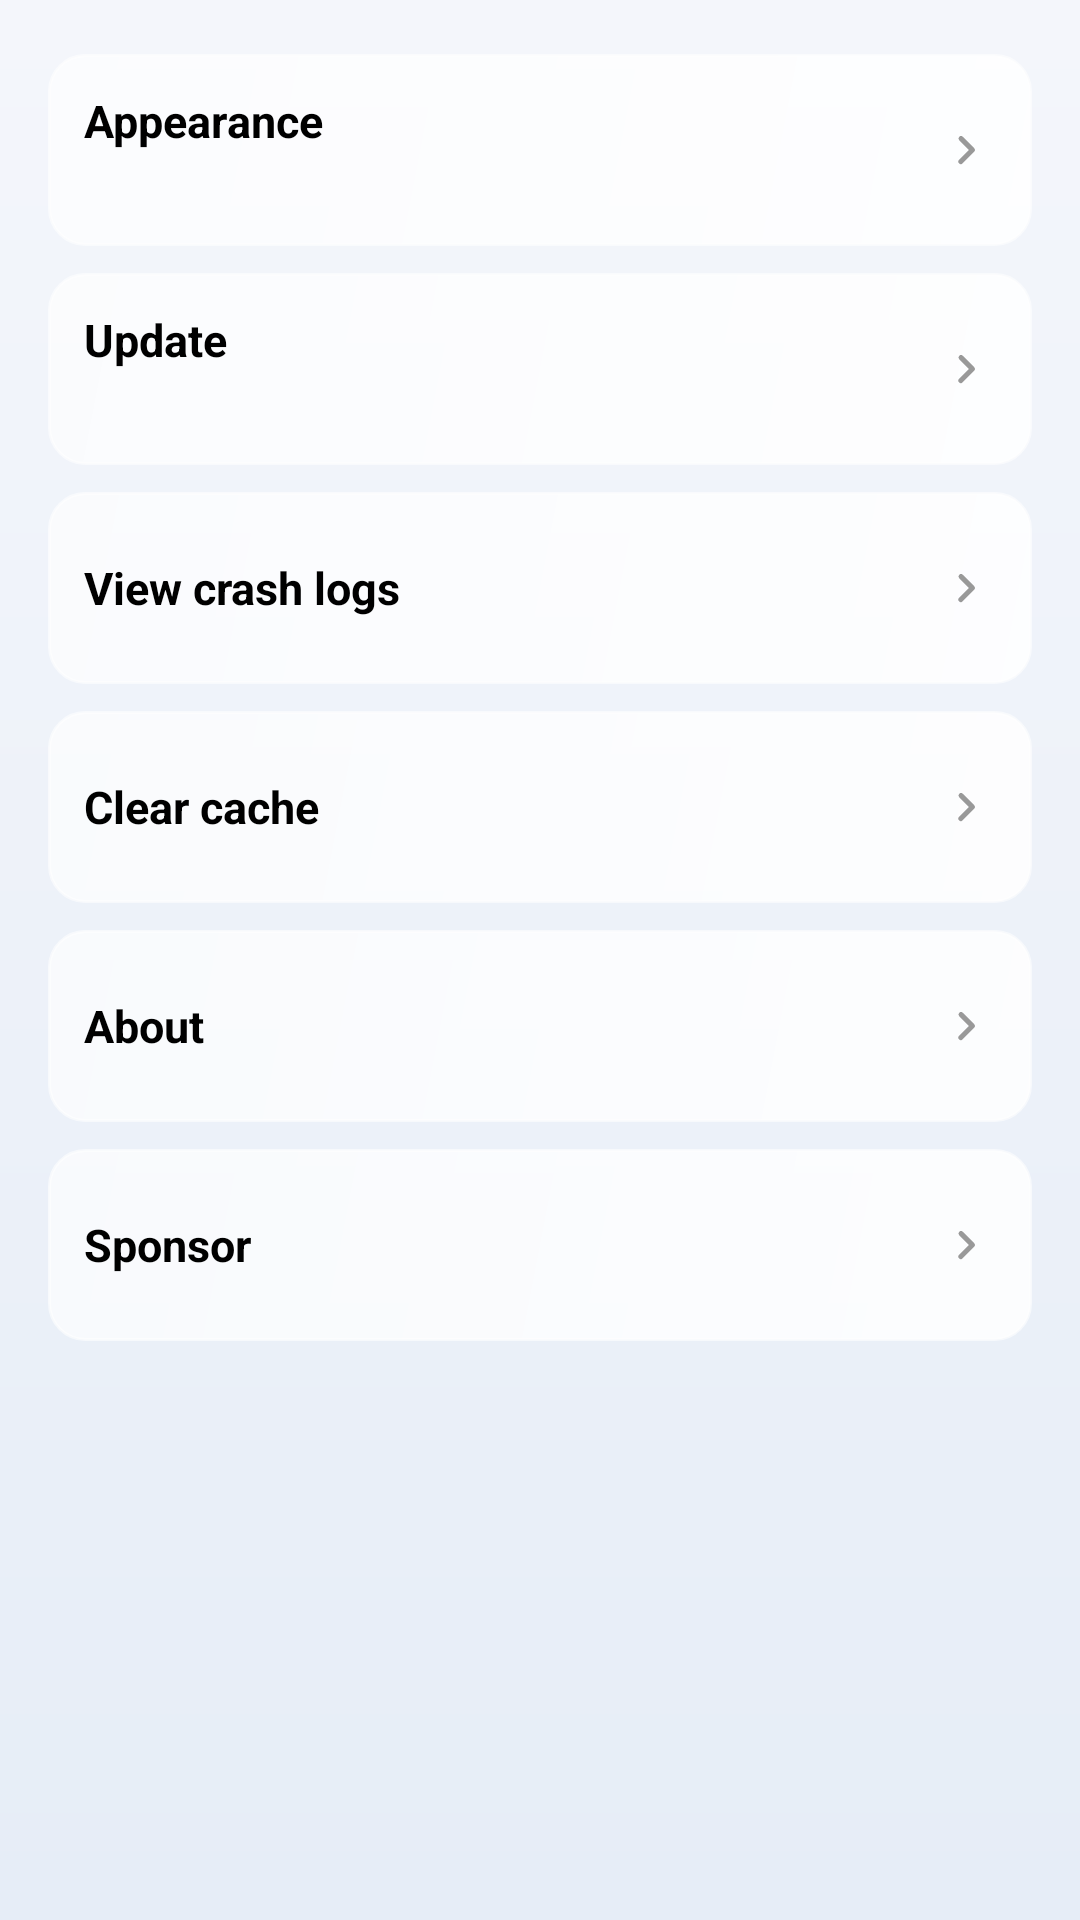

Named icons in this screenshot (1080px×1920px) and their bounding boxes, rect(x1, y1, x2, y2):
arrow right: rect(958, 136, 975, 164), rect(958, 355, 975, 383), rect(958, 574, 975, 602), rect(958, 793, 975, 821), rect(958, 1012, 975, 1040), rect(958, 1231, 975, 1259)
